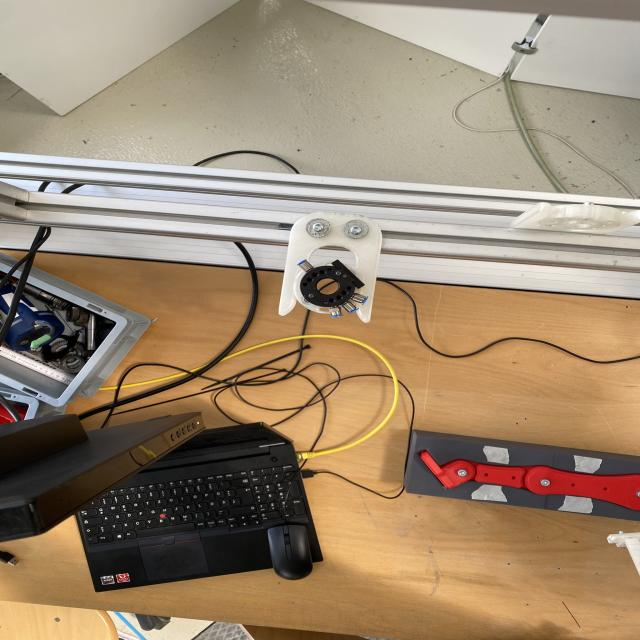Hex Socket Allen: (311, 222, 323, 231), (350, 226, 362, 234), (540, 478, 550, 487), (458, 469, 467, 477)
